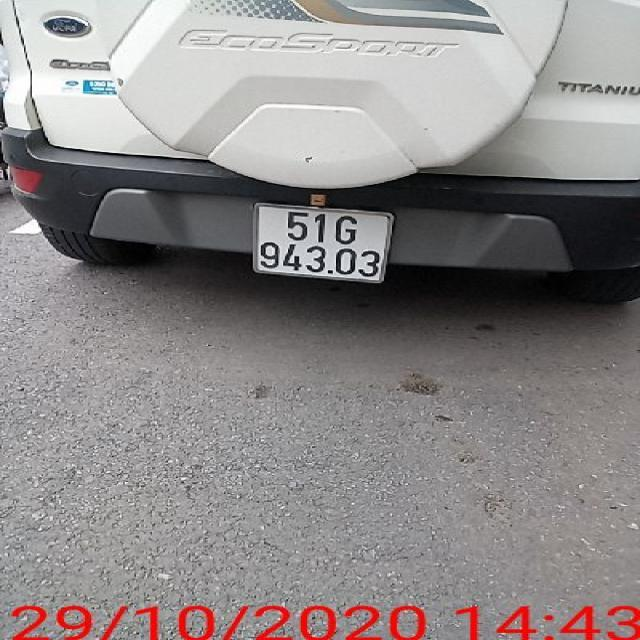bien_so_oto: (250, 200, 398, 284)
